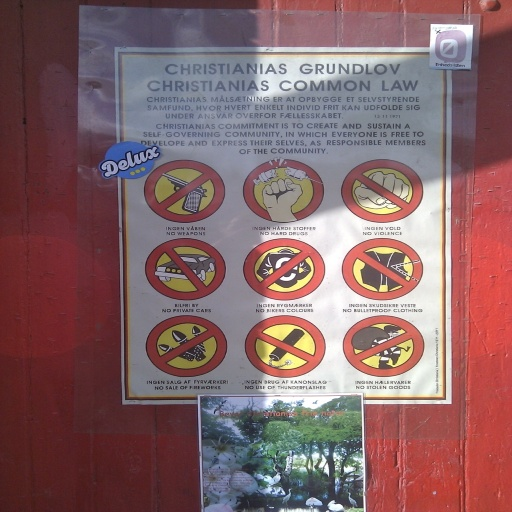hand: (353, 172, 409, 208), (262, 178, 301, 208)
